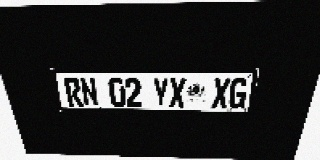0: (108, 78, 126, 107)
2: (124, 78, 142, 107)
G: (228, 78, 249, 108)
N: (79, 78, 99, 107)
R: (63, 77, 84, 106)
X: (211, 78, 231, 108), (169, 78, 186, 108)
Y: (152, 78, 169, 107)
